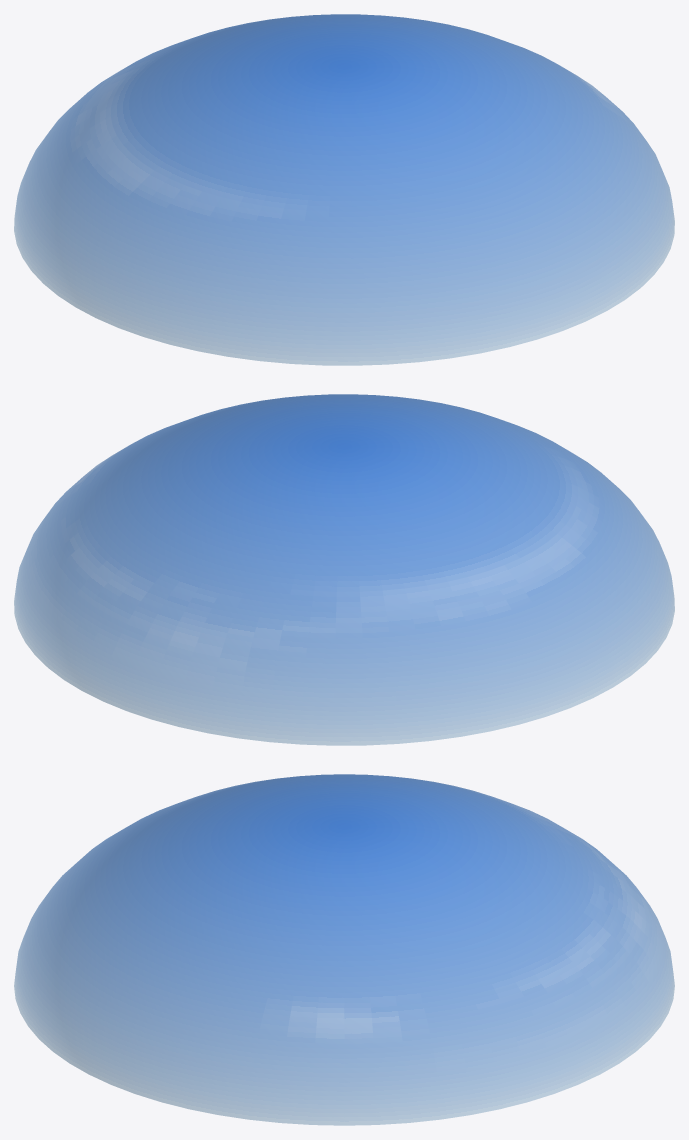
File: env-sky-s14-askdoc-x.glb
The picture shows the model from 3 angles, top to bottom: view 1: azimuth 30°, elevation 25°; view 2: azimuth 150°, elevation 25°; view 3: azimuth 270°, elevation 25°; orthographic projection.
Parts seen in each view (by area): view 1: Sky; view 2: Sky; view 3: Sky.
Part boxes in pixels (x1=…): Sky: x1=14, y1=14, x2=674, y2=365; Sky: x1=14, y1=394, x2=674, y2=745; Sky: x1=14, y1=774, x2=674, y2=1125.
Bounding box in the file's own units: 1200 × 320 × 1200.
Materials: 2 (1 with a texture image).
